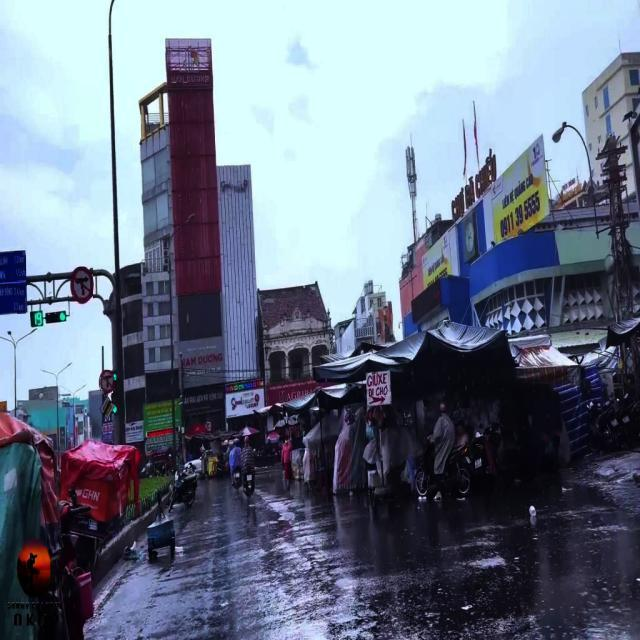137-cam-re-trai-va-re-phai: (68, 266, 95, 306), (98, 370, 115, 392)
